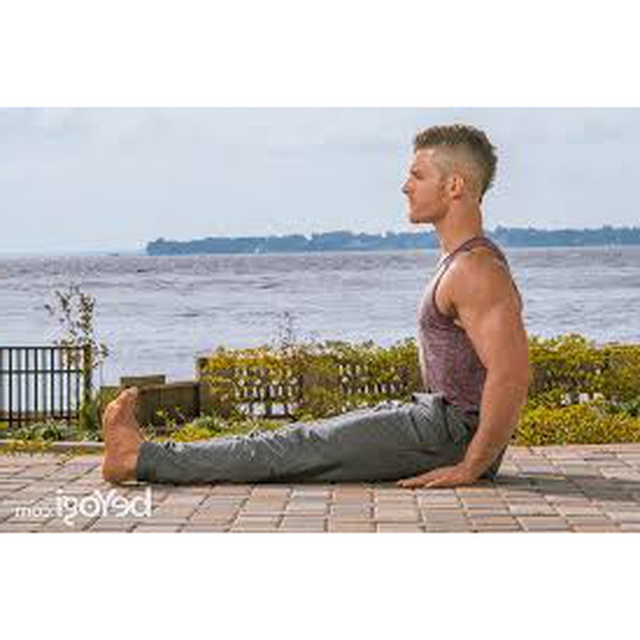Staff_Pose: (102, 122, 532, 491)
